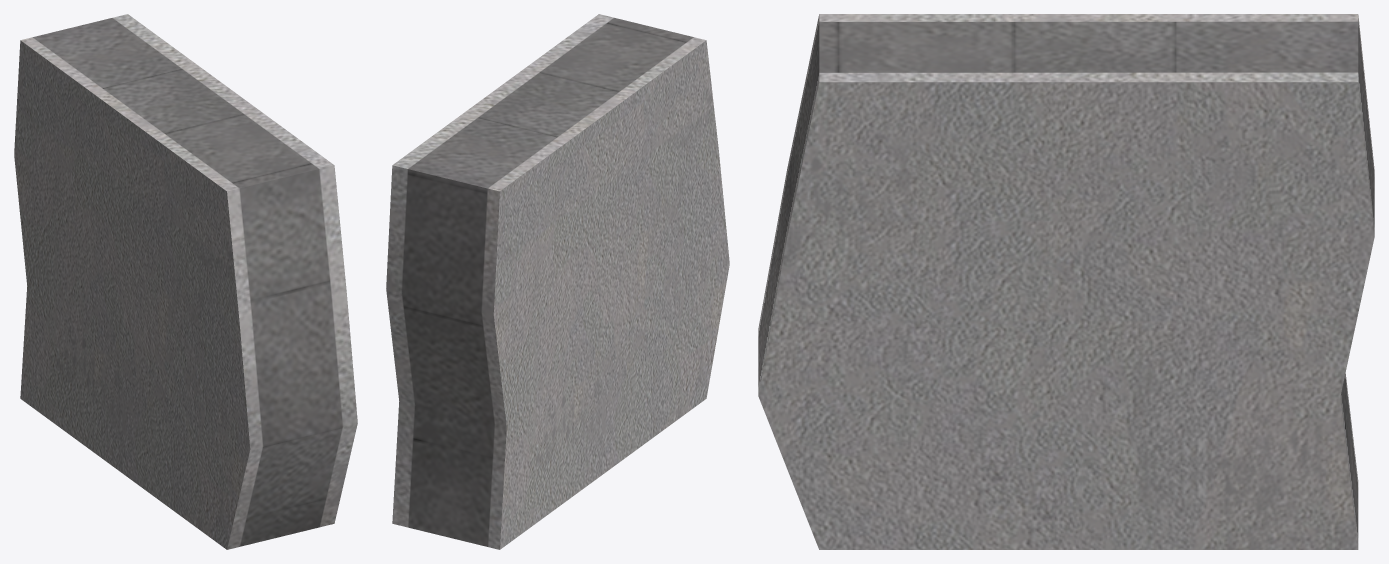
Rendered from BrokenWallType1_.fbx.
3 renders of one model, left to right at view 1: azimuth 30°, elevation 25°; view 2: azimuth 150°, elevation 25°; view 3: azimuth 270°, elevation 25°, orthographic. The views are drawn at different scales.
Parts seen in each view (by area): view 1: BrokenWallType1_; view 2: BrokenWallType1_; view 3: BrokenWallType1_.
Boxes of the visible parts, x1,y1,x2,y2 form: BrokenWallType1_: (14, 14, 357, 549); BrokenWallType1_: (386, 14, 729, 549); BrokenWallType1_: (758, 14, 1374, 549).
Bounding box in the file's own units: 0.1707 × 0.5436 × 0.6491.
